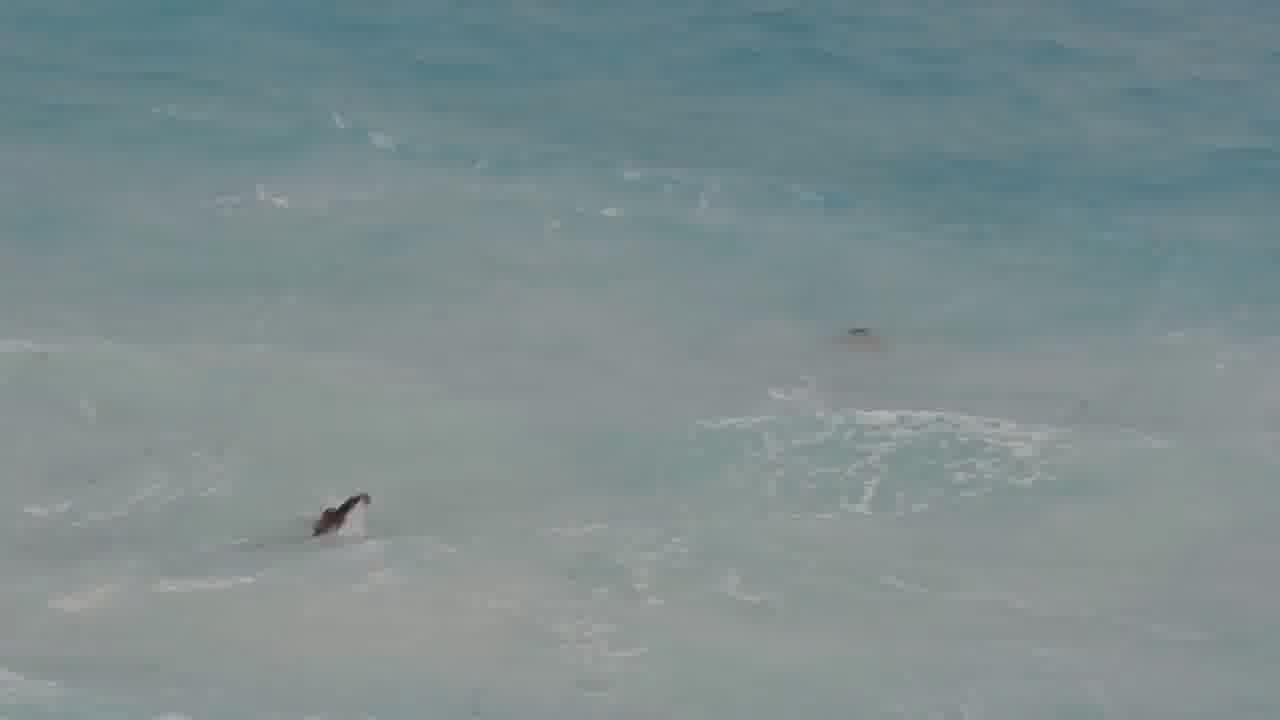swimmer: (289, 484, 369, 548), (837, 312, 886, 361)
